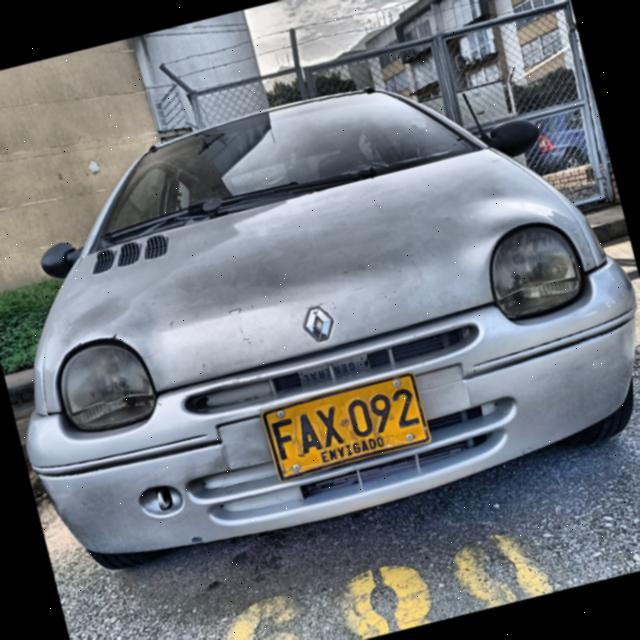0: (344, 396, 375, 440)
2: (388, 384, 421, 429)
9: (366, 390, 398, 434)
A: (292, 410, 324, 456)
F: (270, 416, 301, 461)
X: (314, 404, 345, 448)
